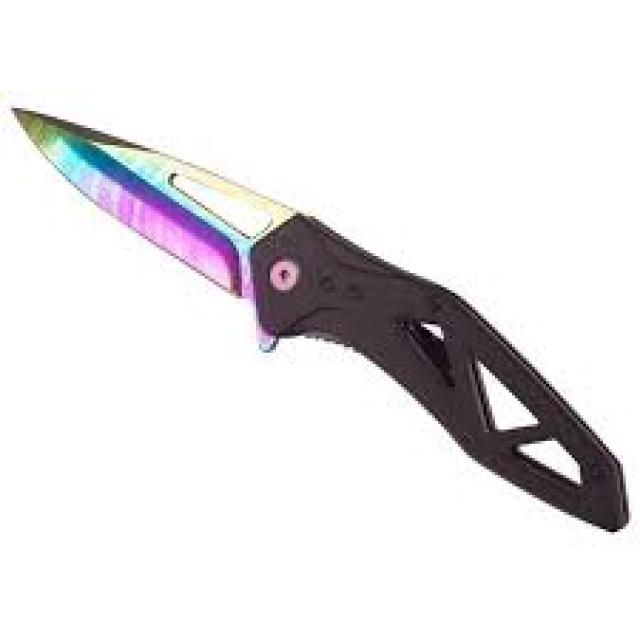knives: (6, 96, 632, 538)
